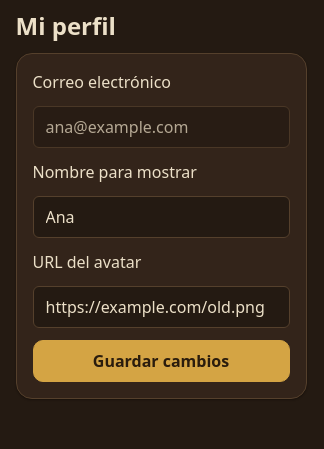
Test case: ProfilePage › keeps the port untouched while the avatar URL is invalid
The image size is (324, 449).
Replace the text in the field labelled "Nombre para mostrar" with "Ana G.": (161, 217) x1=32 y1=196 x2=290 y2=238
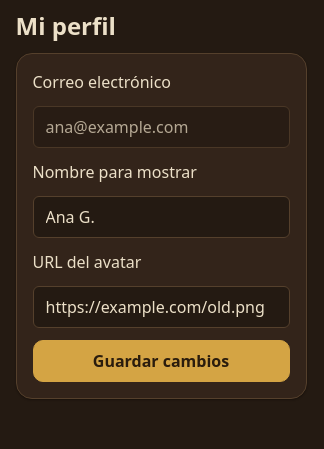
Replace the text in the field labelled "URL del avatar" with "not-a-url": (161, 307) x1=32 y1=286 x2=290 y2=328
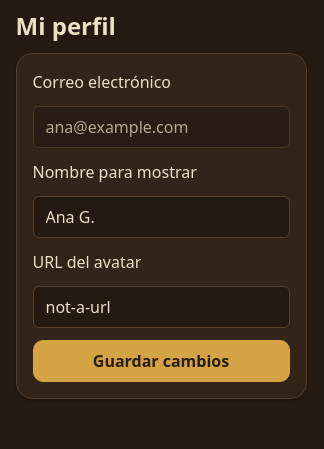
Click the button "Guardar cambios": click(161, 361) x1=32 y1=340 x2=290 y2=382
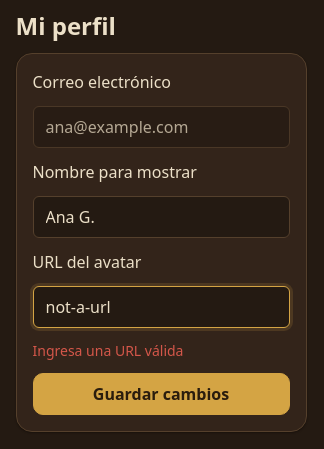
Expected: the text "Ingresa una URL válida" is shown, x1=32 y1=341 x2=184 y2=360
